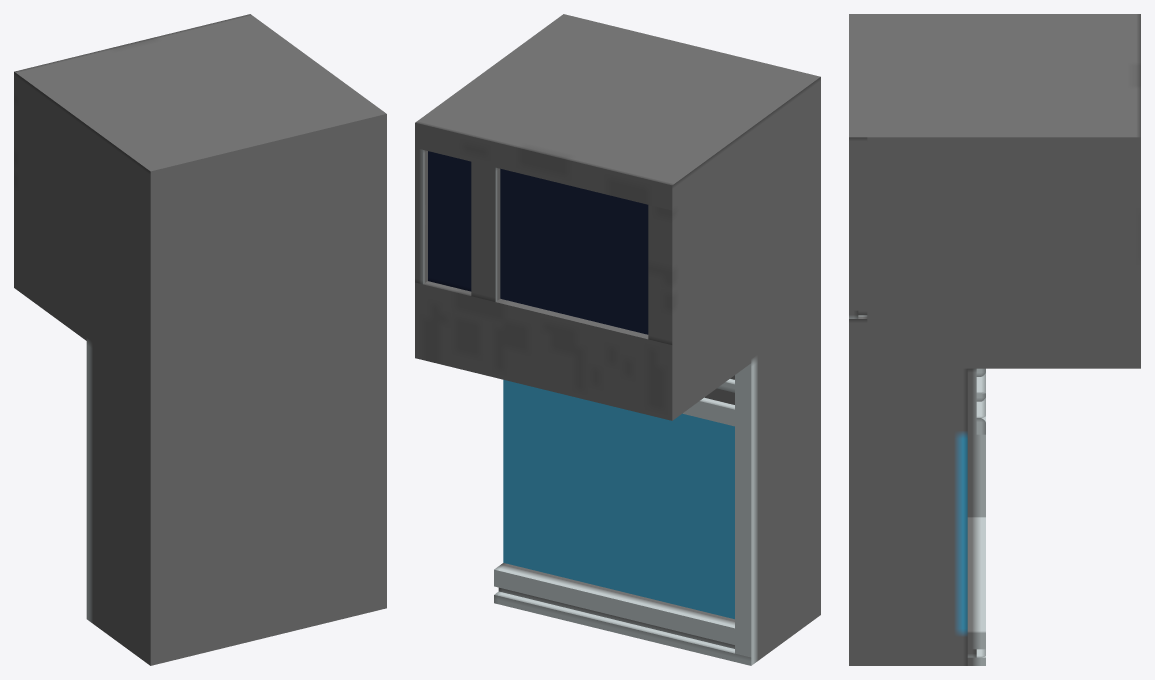
File: B_M_P_ŚRODEK_OKNO.dae
3 views of the same model, side by side, from view 1: azimuth 30°, elevation 25°; view 2: azimuth 150°, elevation 25°; view 3: azimuth 270°, elevation 25° (orthographic). The views are drawn at different scales.
Parts seen in each view (by area): view 1: Content; view 2: Content; view 3: Content.
Boxes of the visible parts, bbox=[...] form: Content: bbox=[14, 14, 386, 665]; Content: bbox=[415, 14, 820, 665]; Content: bbox=[849, 14, 1140, 665].
Bounding box in the file's own units: 32 × 64 × 32.
1 material, 1 textured.
